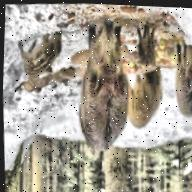boar: (72, 17, 135, 157), (123, 66, 164, 132), (170, 41, 192, 121)
